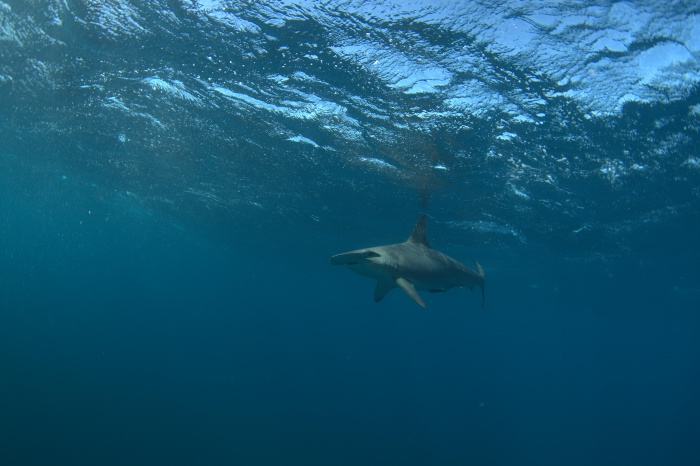Hammer: (316, 205, 508, 336)
